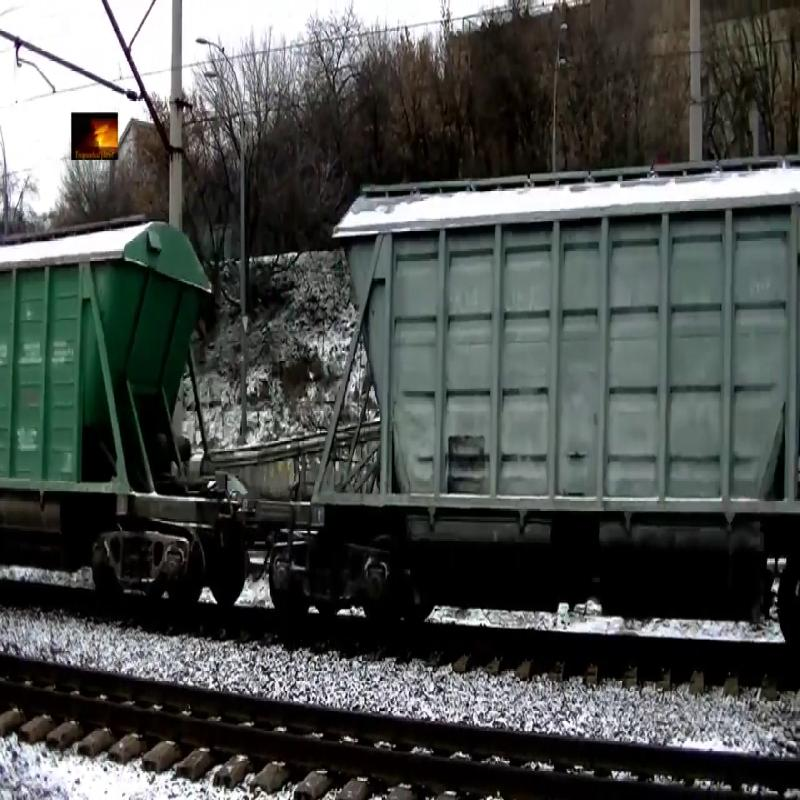train: (300, 149, 800, 565), (3, 213, 211, 555)
